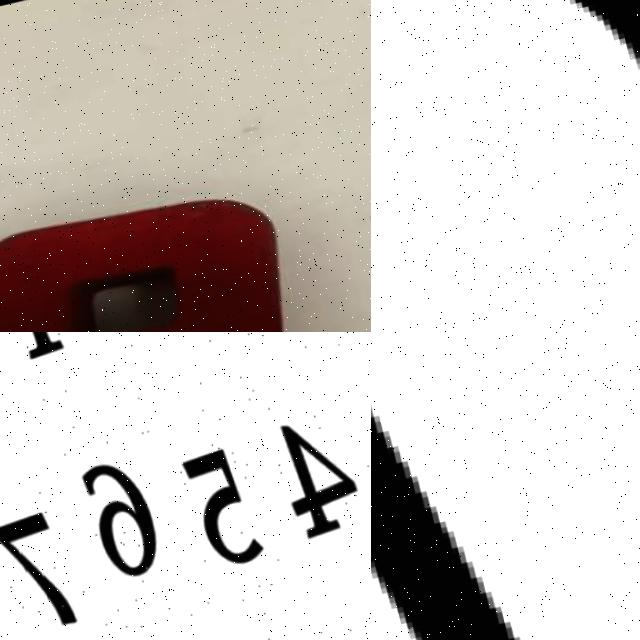1: (0, 332, 82, 374)
4: (246, 387, 371, 559)
5: (153, 422, 285, 591)
6: (52, 428, 184, 601)
7: (0, 479, 99, 640)
A: (0, 177, 311, 332)
I: (371, 332, 563, 640)
R: (371, 0, 640, 332)
